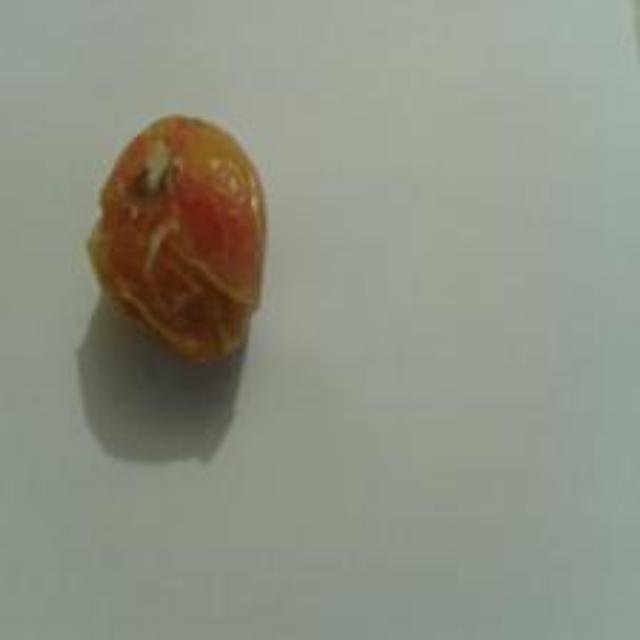defect: (80, 102, 289, 369)
